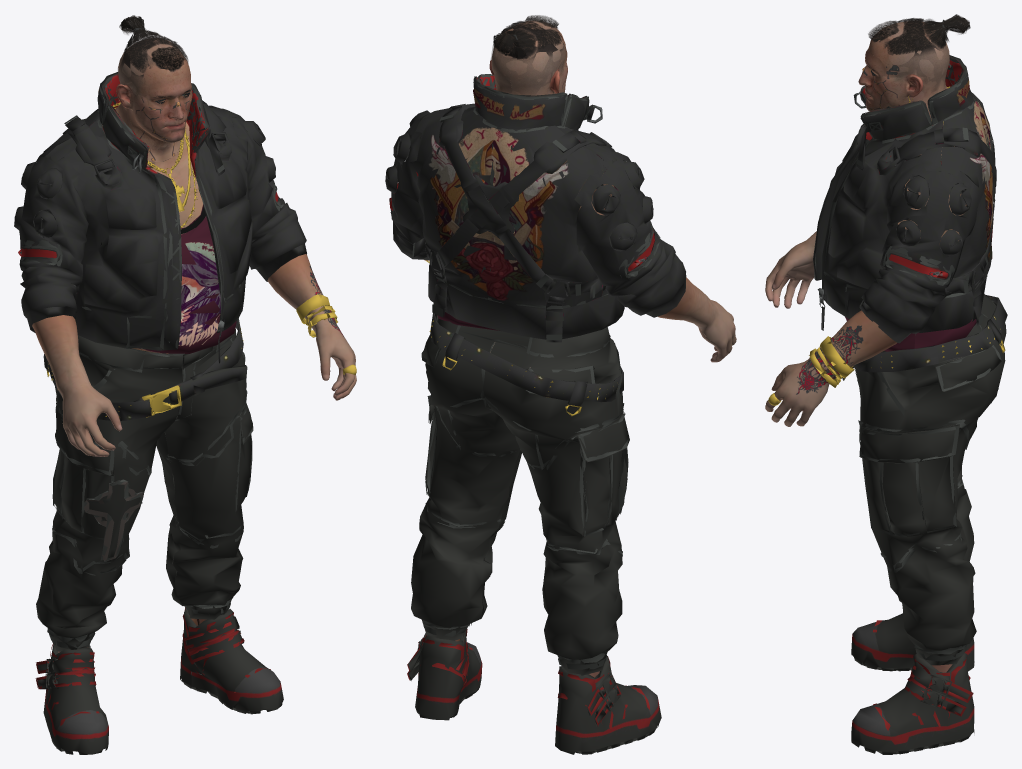
The model's file is jackie.glb.
3 views of the same model, side by side, from view 1: azimuth 30°, elevation 25°; view 2: azimuth 150°, elevation 25°; view 3: azimuth 270°, elevation 25° (orthographic). The views are drawn at different scales.
Visible parts, largest first — view 1: cyberpunk2077jackie_wellesjackie_wellesmdl_hair_hairsmd_MES_ (×3), cyberpunk2077jackie_wellesjackie_wellesmdl_pants_pantssmd_M, cyberpunk2077jackie_wellesjackie_wellesmdl_shoes_shoessmd_M_ (×2), cyberpunk2077jackie_wellesjackie_wellesmdl_body_bodysmd_MES_, cyberpunk2077jackie_wellesjackie_wellesmdl_jacket_jacketsmd_, cyberpunk2077jackie_wellesjackie_wellesmdl_head_headdmx_MES, cyberpunk2077jackie_wellesjackie_wellesmdl_shirt_shirtsmd_M_, cyberpunk2077jackie_wellesjackie_wellesmdl_belt_beltsmd_MES_, cyberpunk2077jackie_wellesjackie_wellesmdl_belt_beltsmd_MES, cyberpunk2077jackie_wellesjackie_wellesmdl_shirt_shirtsmd_M, cyberpunk2077jackie_wellesjackie_wellesmdl_body_bodysmd_MES, cyberpunk2077jackie_wellesjackie_wellesmdl_pants_pantssmd_M_; view 2: cyberpunk2077jackie_wellesjackie_wellesmdl_pants_pantssmd_M, cyberpunk2077jackie_wellesjackie_wellesmdl_hair_hairsmd_MES_ (×3), cyberpunk2077jackie_wellesjackie_wellesmdl_jacket_jacketsmd_ (×2), cyberpunk2077jackie_wellesjackie_wellesmdl_shoes_shoessmd_M_ (×2), cyberpunk2077jackie_wellesjackie_wellesmdl_belt_beltsmd_MES_, cyberpunk2077jackie_wellesjackie_wellesmdl_head_headdmx_MES, cyberpunk2077jackie_wellesjackie_wellesmdl_body_bodysmd_MES_, cyberpunk2077jackie_wellesjackie_wellesmdl_hair_hairsmd_MES; view 3: cyberpunk2077jackie_wellesjackie_wellesmdl_hair_hairsmd_MES_ (×3), cyberpunk2077jackie_wellesjackie_wellesmdl_pants_pantssmd_M, cyberpunk2077jackie_wellesjackie_wellesmdl_shoes_shoessmd_M_ (×2), cyberpunk2077jackie_wellesjackie_wellesmdl_jacket_jacketsmd_ (×2), cyberpunk2077jackie_wellesjackie_wellesmdl_body_bodysmd_MES_, cyberpunk2077jackie_wellesjackie_wellesmdl_head_headdmx_MES, cyberpunk2077jackie_wellesjackie_wellesmdl_belt_beltsmd_MES_, handtatsmd, cyberpunk2077jackie_wellesjackie_wellesmdl_belt_beltsmd_MES, cyberpunk2077jackie_wellesjackie_wellesmdl_shirt_shirtsmd_M, cyberpunk2077jackie_wellesjackie_wellesmdl_hair_hairsmd_MES.
Part boxes in pixels (x1,y1,x2,y2): cyberpunk2077jackie_wellesjackie_wellesmdl_hair_hairsmd_MES_ (×3): [14, 15, 306, 363]; cyberpunk2077jackie_wellesjackie_wellesmdl_pants_pantssmd_M: [36, 328, 252, 651]; cyberpunk2077jackie_wellesjackie_wellesmdl_shoes_shoessmd_M_ (×2): [35, 608, 283, 754]; cyberpunk2077jackie_wellesjackie_wellesmdl_body_bodysmd_MES_: [32, 254, 356, 456]; cyberpunk2077jackie_wellesjackie_wellesmdl_jacket_jacketsmd_: [20, 72, 283, 648]; cyberpunk2077jackie_wellesjackie_wellesmdl_head_headdmx_MES: [115, 39, 192, 161]; cyberpunk2077jackie_wellesjackie_wellesmdl_shirt_shirtsmd_M_: [140, 242, 220, 349]; cyberpunk2077jackie_wellesjackie_wellesmdl_belt_beltsmd_MES_: [43, 318, 247, 420]; cyberpunk2077jackie_wellesjackie_wellesmdl_belt_beltsmd_MES: [46, 102, 356, 417]; cyberpunk2077jackie_wellesjackie_wellesmdl_shirt_shirtsmd_M: [77, 122, 236, 353]; cyberpunk2077jackie_wellesjackie_wellesmdl_body_bodysmd_MES: [58, 122, 206, 652]; cyberpunk2077jackie_wellesjackie_wellesmdl_pants_pantssmd_M_: [84, 481, 143, 560]; cyberpunk2077jackie_wellesjackie_wellesmdl_pants_pantssmd_M: [411, 318, 629, 675]; cyberpunk2077jackie_wellesjackie_wellesmdl_hair_hairsmd_MES_ (×3): [385, 15, 686, 342]; cyberpunk2077jackie_wellesjackie_wellesmdl_jacket_jacketsmd_ (×2): [391, 74, 660, 669]; cyberpunk2077jackie_wellesjackie_wellesmdl_shoes_shoessmd_M_ (×2): [407, 629, 661, 754]; cyberpunk2077jackie_wellesjackie_wellesmdl_belt_beltsmd_MES_: [430, 313, 623, 407]; cyberpunk2077jackie_wellesjackie_wellesmdl_head_headdmx_MES: [489, 20, 567, 95]; cyberpunk2077jackie_wellesjackie_wellesmdl_body_bodysmd_MES_: [424, 260, 736, 362]; cyberpunk2077jackie_wellesjackie_wellesmdl_hair_hairsmd_MES: [490, 26, 566, 94]; cyberpunk2077jackie_wellesjackie_wellesmdl_hair_hairsmd_MES_ (×3): [813, 14, 996, 343]; cyberpunk2077jackie_wellesjackie_wellesmdl_pants_pantssmd_M: [846, 294, 1006, 665]; cyberpunk2077jackie_wellesjackie_wellesmdl_shoes_shoessmd_M_ (×2): [851, 613, 974, 754]; cyberpunk2077jackie_wellesjackie_wellesmdl_jacket_jacketsmd_ (×2): [814, 55, 1001, 661]; cyberpunk2077jackie_wellesjackie_wellesmdl_body_bodysmd_MES_: [765, 231, 896, 426]; cyberpunk2077jackie_wellesjackie_wellesmdl_head_headdmx_MES: [858, 21, 949, 124]; cyberpunk2077jackie_wellesjackie_wellesmdl_belt_beltsmd_MES_: [842, 295, 1007, 380]; handtatsmd: [796, 325, 863, 394]; cyberpunk2077jackie_wellesjackie_wellesmdl_belt_beltsmd_MES: [768, 86, 1005, 405]; cyberpunk2077jackie_wellesjackie_wellesmdl_shirt_shirtsmd_M: [845, 127, 976, 351]; cyberpunk2077jackie_wellesjackie_wellesmdl_hair_hairsmd_MES: [872, 19, 950, 85].
Bounding box in the file's own units: 0.712 × 1.64 × 0.5228.
Materials: 24 (19 with a texture image).
